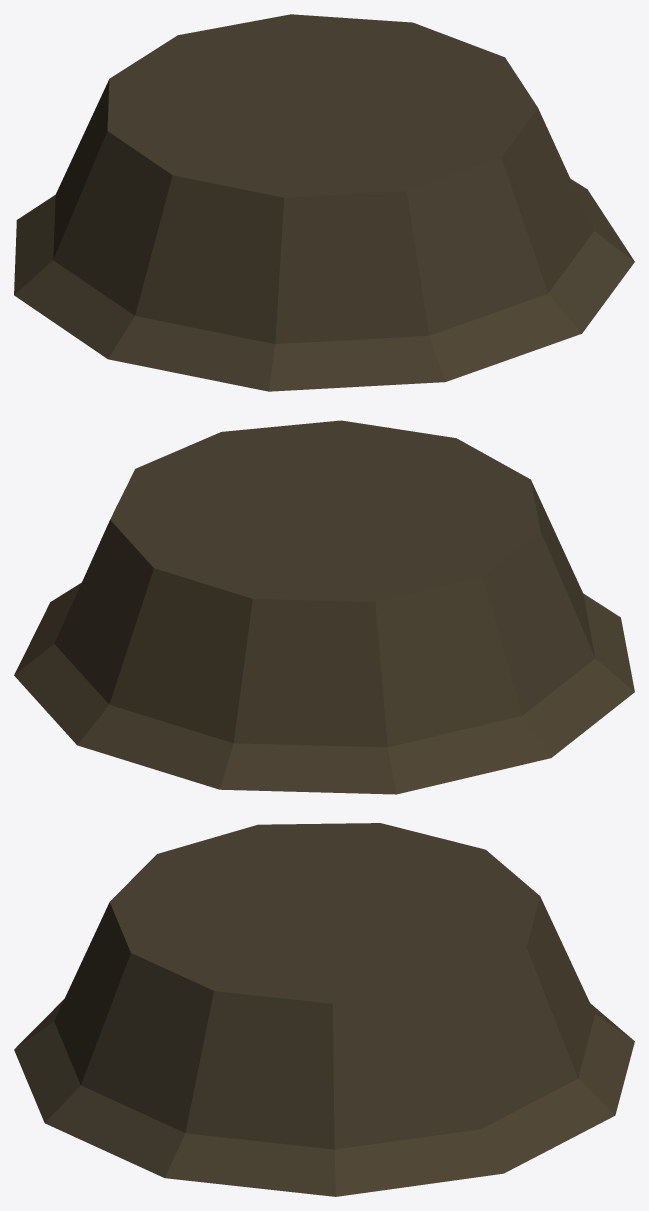
File: stationary_turret_base.glb
The picture shows the model from 3 angles, top to bottom: view 1: azimuth 30°, elevation 25°; view 2: azimuth 150°, elevation 25°; view 3: azimuth 270°, elevation 25°; orthographic projection.
Parts seen in each view (by area): view 1: turret_base; view 2: turret_base; view 3: turret_base.
Part boxes in pixels (box(x1,y1,x2,y2)): turret_base: box(14, 14, 634, 391); turret_base: box(14, 420, 634, 794); turret_base: box(14, 823, 634, 1196).
Bounding box in the file's own units: 3.12 × 0.8504 × 3.14.
